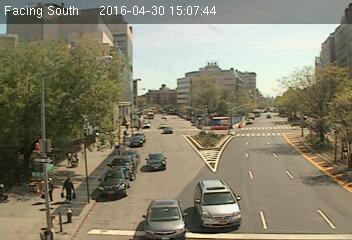neg: (180, 136, 205, 170), (230, 131, 253, 163), (119, 151, 142, 182), (281, 123, 303, 152)
pos: (56, 173, 78, 202), (39, 176, 60, 204), (63, 149, 75, 165)
